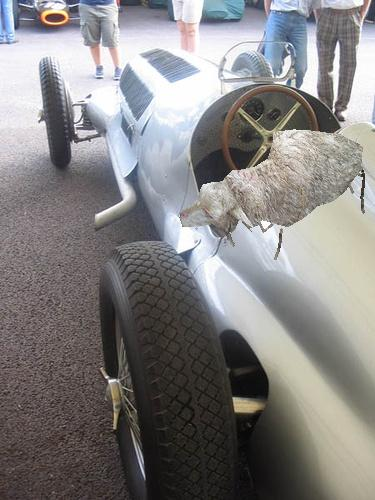tampered: (180, 130, 365, 260)
